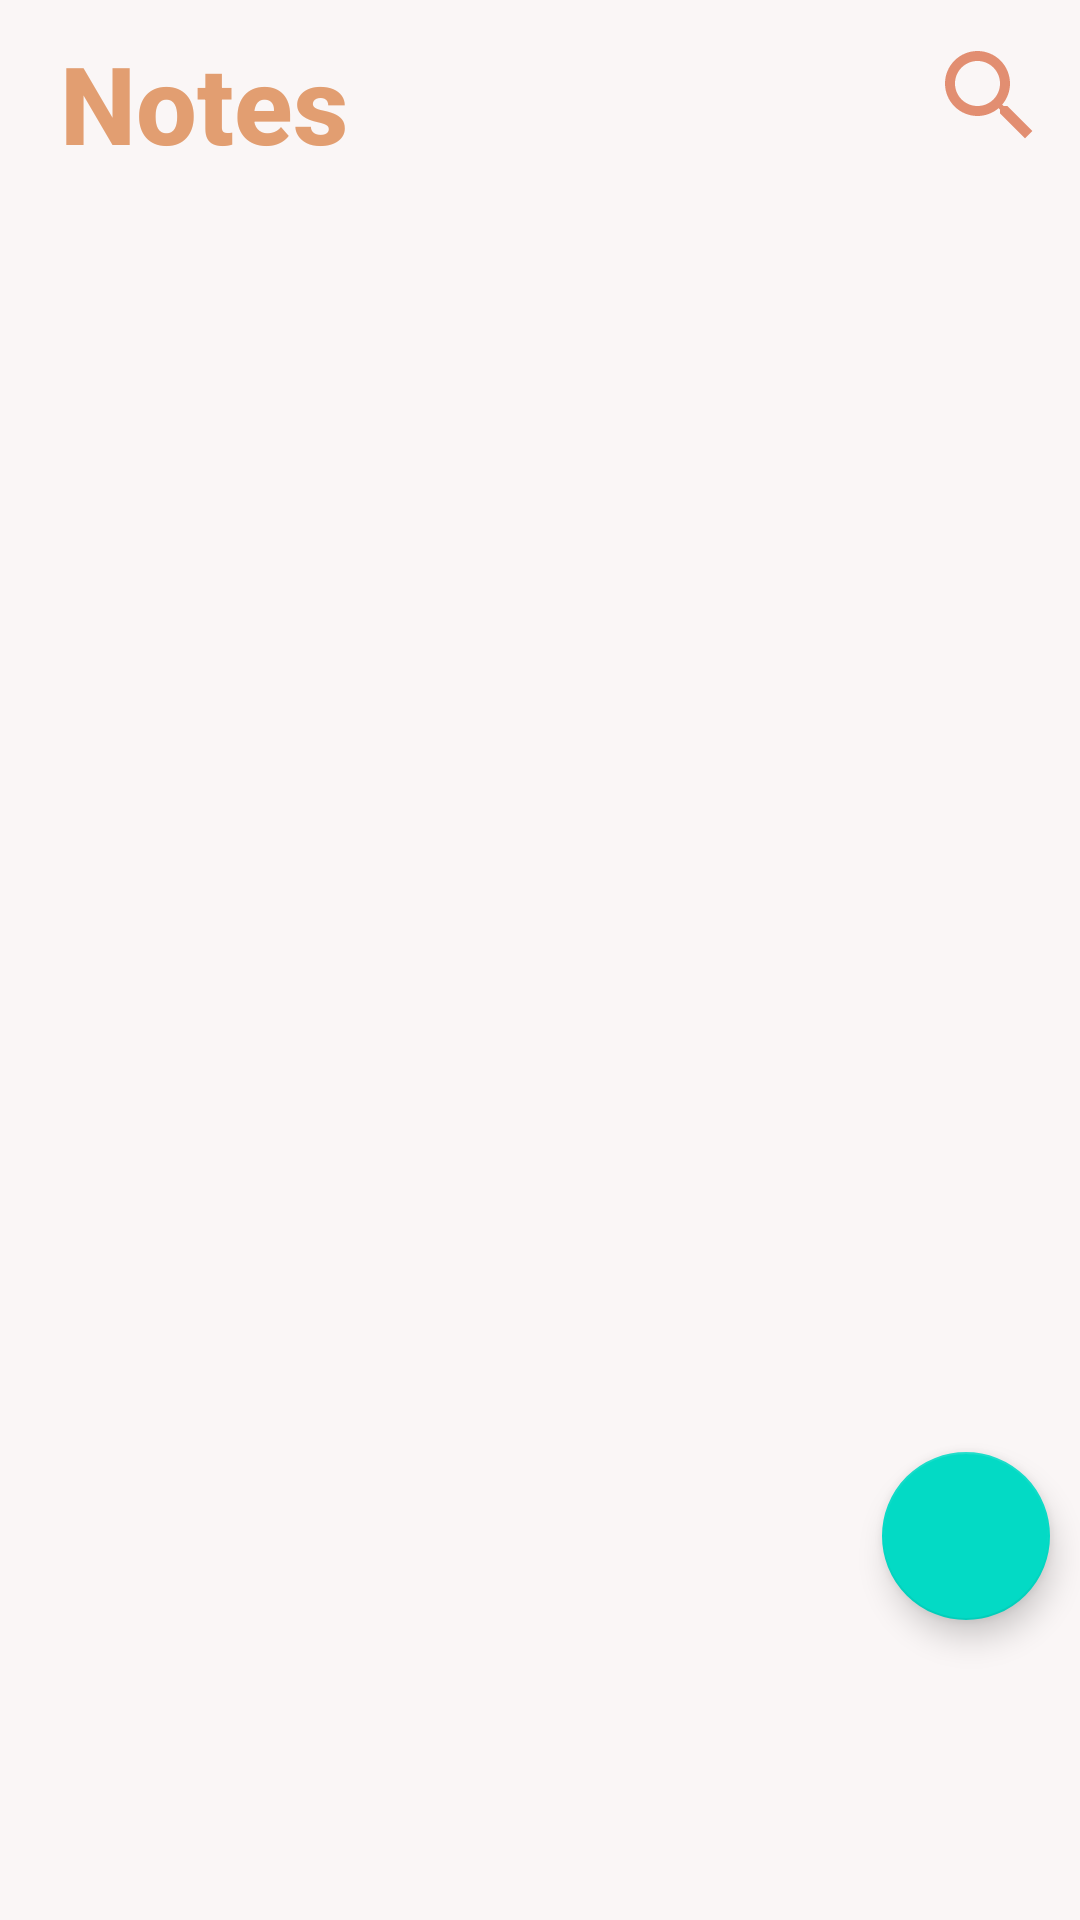

Icon bounding boxes for this 1080 × 1920 phone screenshot, format box=[x1, y1, x2, y2]:
search: box=[945, 51, 1032, 138]
